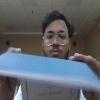notebook: (0, 50, 99, 99)
